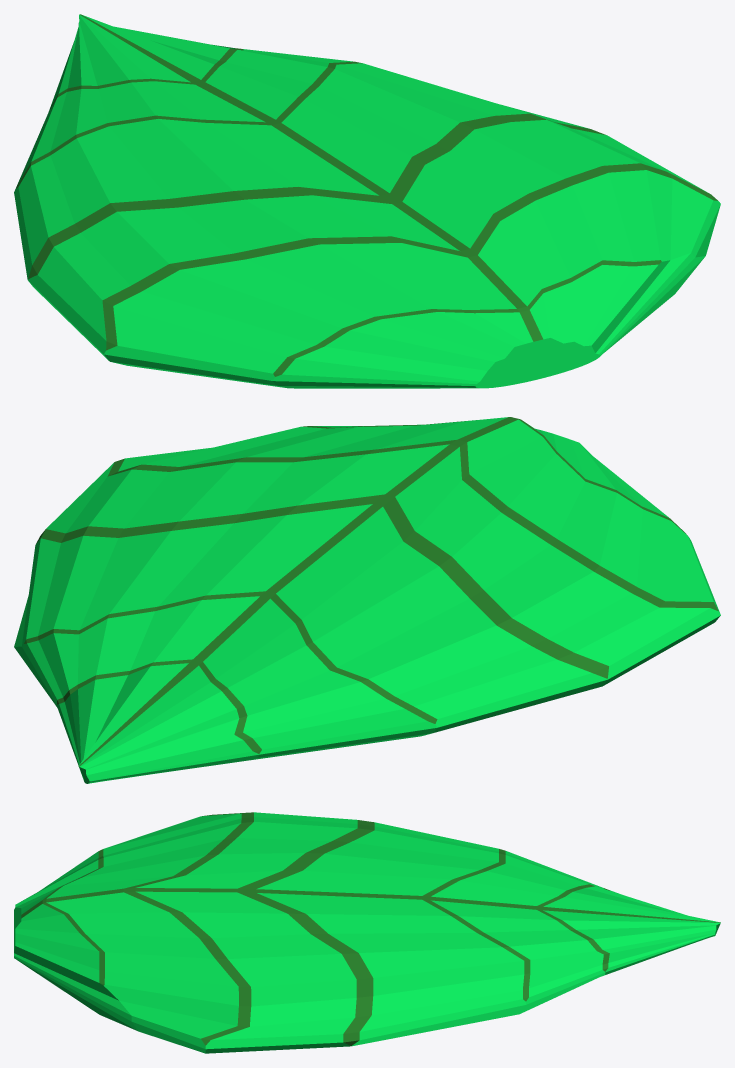
Rendered from GreenLeaf.fbx.
3 views of the same model, one above another, from view 1: azimuth 30°, elevation 25°; view 2: azimuth 150°, elevation 25°; view 3: azimuth 270°, elevation 25° (orthographic). The views are drawn at different scales.
Parts seen in each view (by area): view 1: GreenLeaf; view 2: GreenLeaf; view 3: GreenLeaf.
Part boxes in pixels (x1,y1,x2,y2): GreenLeaf: (14, 14, 720, 388); GreenLeaf: (14, 417, 720, 783); GreenLeaf: (14, 812, 720, 1053).
Size of the model in its own units: 155 by 25.46 by 202.
